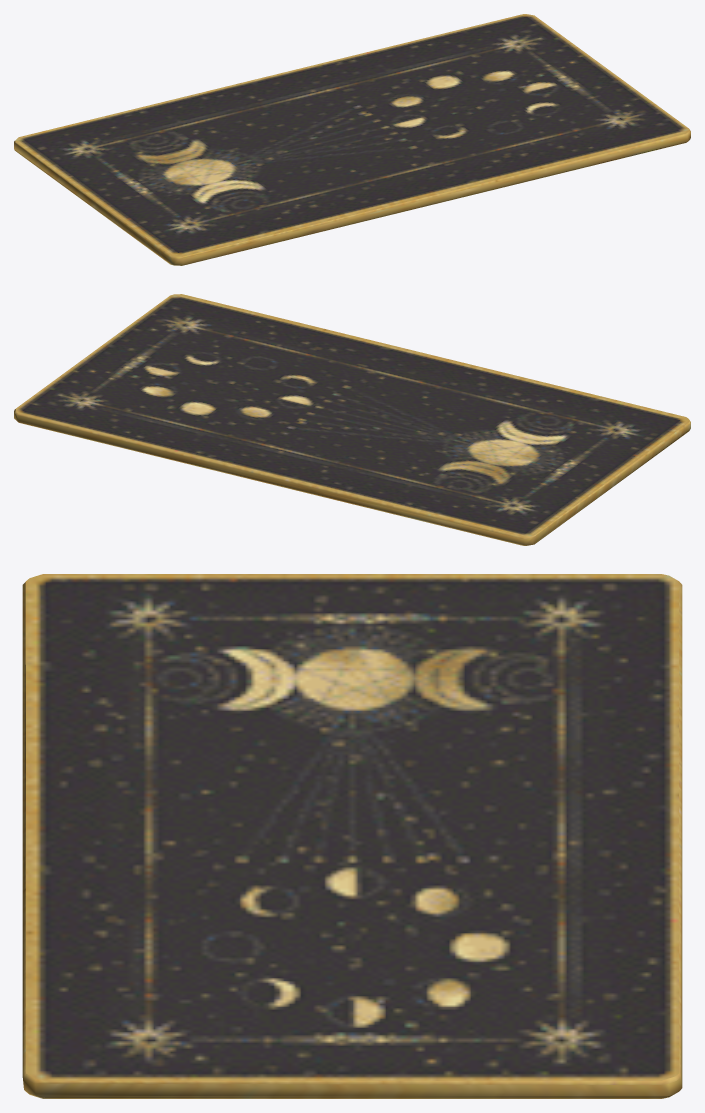
The model's file is TarotCardBack.fbx.
The picture shows the model from 3 angles, top to bottom: view 1: azimuth 30°, elevation 25°; view 2: azimuth 150°, elevation 25°; view 3: azimuth 270°, elevation 25°; orthographic projection. The views are drawn at different scales.
Parts seen in each view (by area): view 1: MO_Key_Card; view 2: MO_Key_Card; view 3: MO_Key_Card.
Part boxes in pixels (bbox=[...]): MO_Key_Card: bbox=[14, 14, 690, 265]; MO_Key_Card: bbox=[14, 294, 690, 545]; MO_Key_Card: bbox=[22, 574, 682, 1098].
Bounding box in the file's own units: 0.1637 × 0.00275 × 0.0896.
